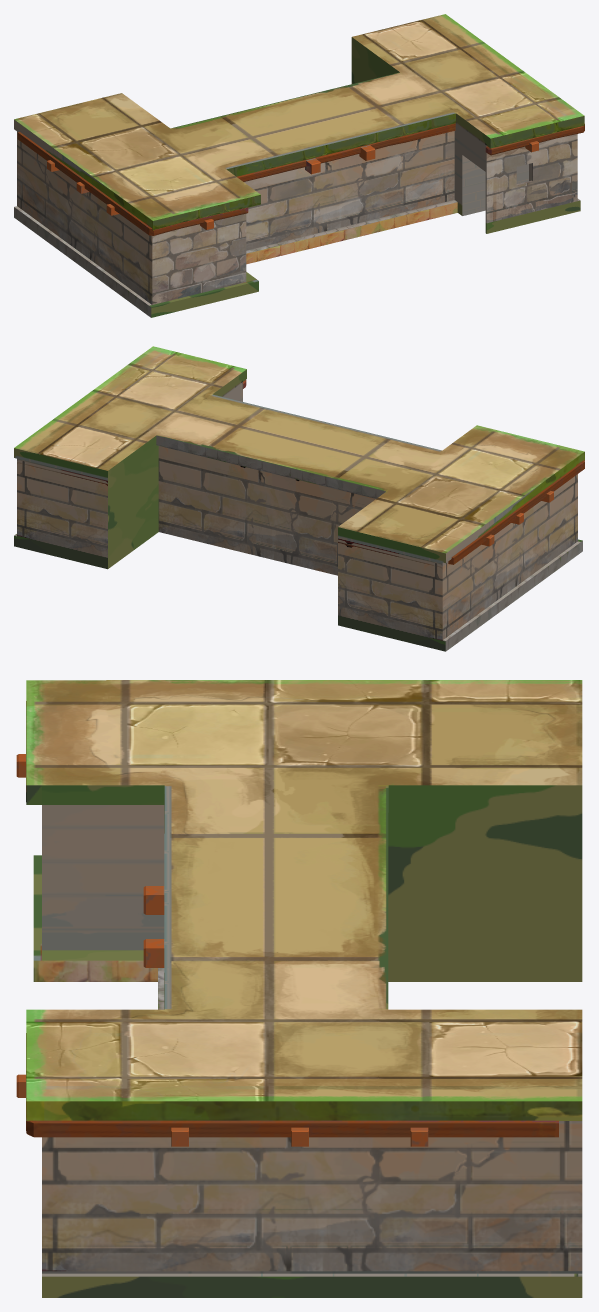
Rendered from CASTLE.fbx.
3 views of the same model, one above another, from view 1: azimuth 30°, elevation 25°; view 2: azimuth 150°, elevation 25°; view 3: azimuth 270°, elevation 25° (orthographic). The views are drawn at different scales.
Visible parts, largest first — view 1: castle.uv; view 2: castle.uv; view 3: castle.uv.
Part boxes in pixels (x1=…): castle.uv: x1=14, y1=14, x2=584, y2=317; castle.uv: x1=14, y1=346, x2=584, y2=651; castle.uv: x1=16, y1=680, x2=582, y2=1297.
Size of the model in its own units: 4347 by 921 by 2401.
Materials: 1 (1 with a texture image).
